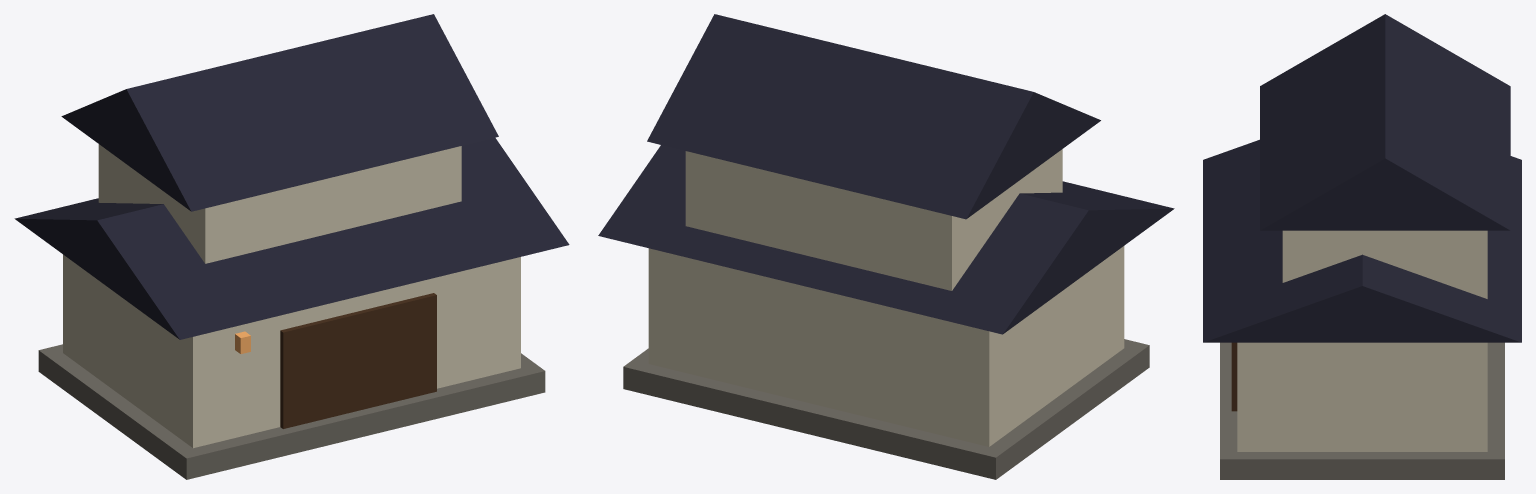
File: market_tile_house.glb
3 renders of one model, left to right at view 1: azimuth 30°, elevation 25°; view 2: azimuth 150°, elevation 25°; view 3: azimuth 270°, elevation 25°, orthographic. The views are drawn at different scales.
Visible parts, largest first — view 1: market_tile_house; view 2: market_tile_house; view 3: market_tile_house.
Part boxes in pixels (x1,y1,x2,y2): market_tile_house: [14, 14, 569, 479]; market_tile_house: [598, 14, 1174, 479]; market_tile_house: [1203, 14, 1521, 479].
Size of the model in its own units: 7.6 by 6 by 5.6.
